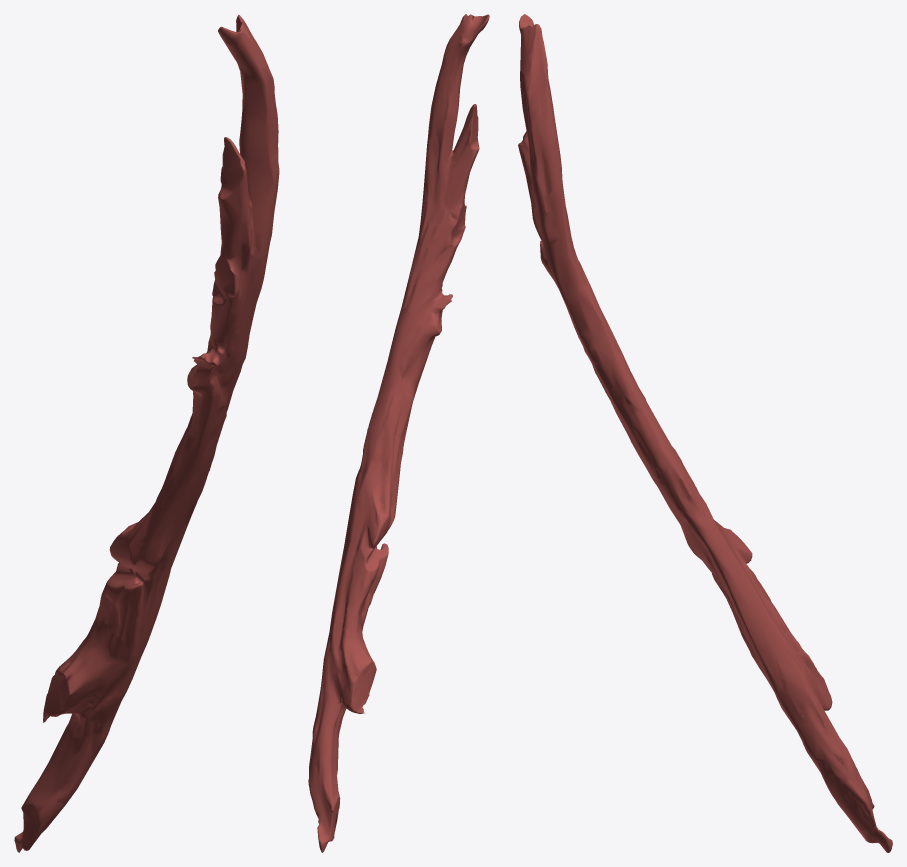
The model's file is FMA22782.glb.
3 views of the same model, side by side, from view 1: azimuth 30°, elevation 25°; view 2: azimuth 150°, elevation 25°; view 3: azimuth 270°, elevation 25° (orthographic). The views are drawn at different scales.
Parts seen in each view (by area): view 1: FMA22782; view 2: FMA22782; view 3: FMA22782.
Boxes of the visible parts, x1,y1,x2,y2 form: FMA22782: [14, 15, 279, 852]; FMA22782: [308, 14, 489, 852]; FMA22782: [518, 14, 892, 852].
Size of the model in its own units: 0.00884 by 0.1026 by 0.0418.
